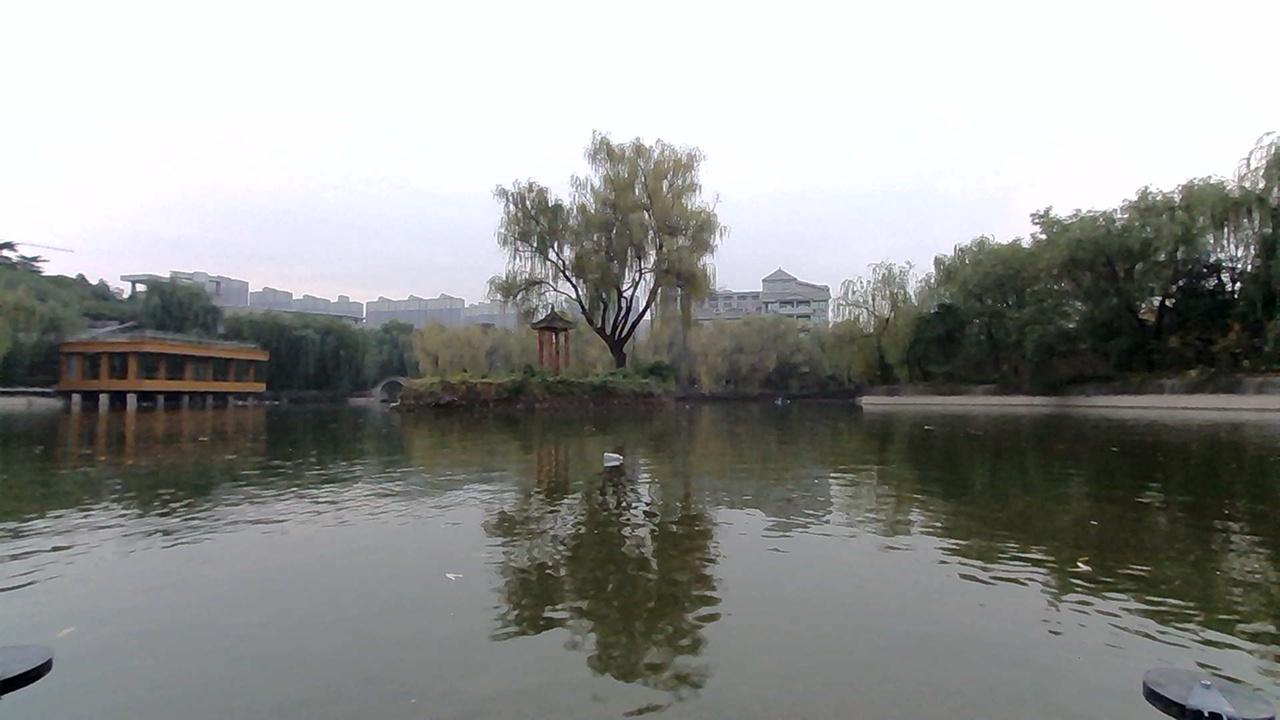bottle: (580, 435, 644, 468)
